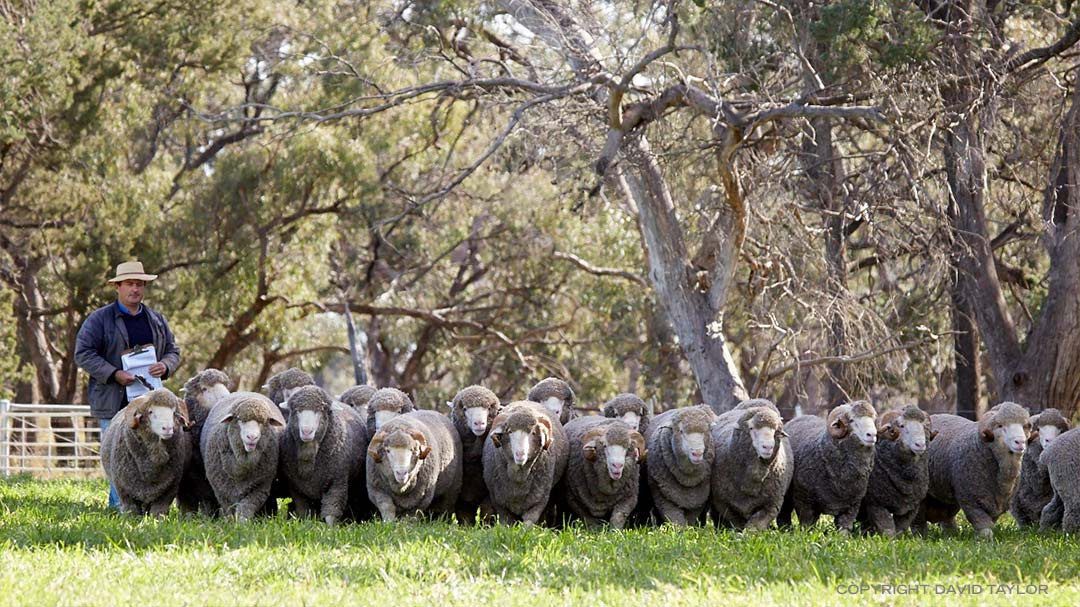sheep: (928, 404, 1027, 536), (360, 407, 463, 527), (783, 403, 879, 529), (283, 382, 368, 523), (197, 391, 287, 524), (101, 389, 196, 514), (484, 393, 570, 531), (715, 400, 796, 533), (561, 405, 644, 531), (644, 403, 717, 528), (446, 385, 512, 523), (872, 401, 933, 538), (1015, 409, 1074, 533)
